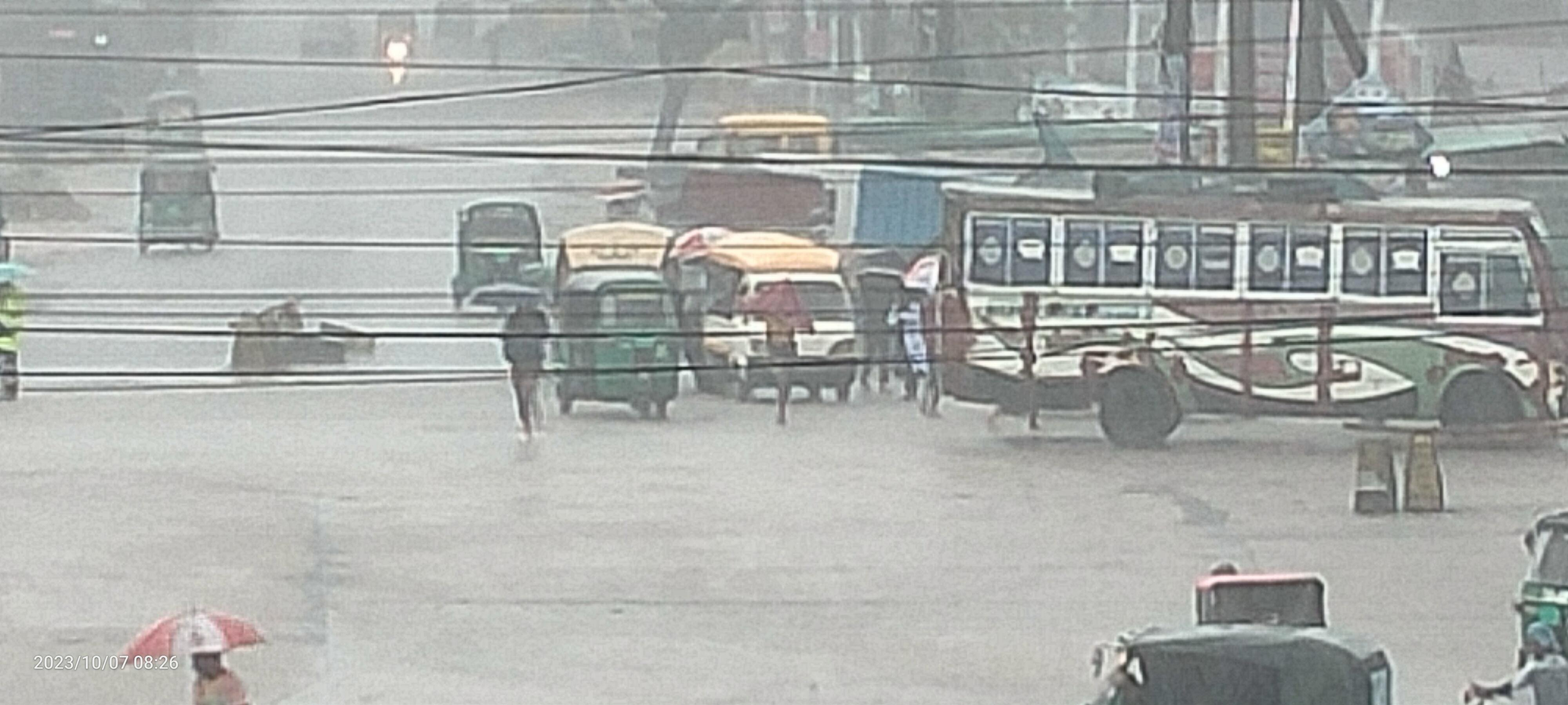Bus: (922, 161, 1568, 470)
Car: (684, 190, 873, 432)
